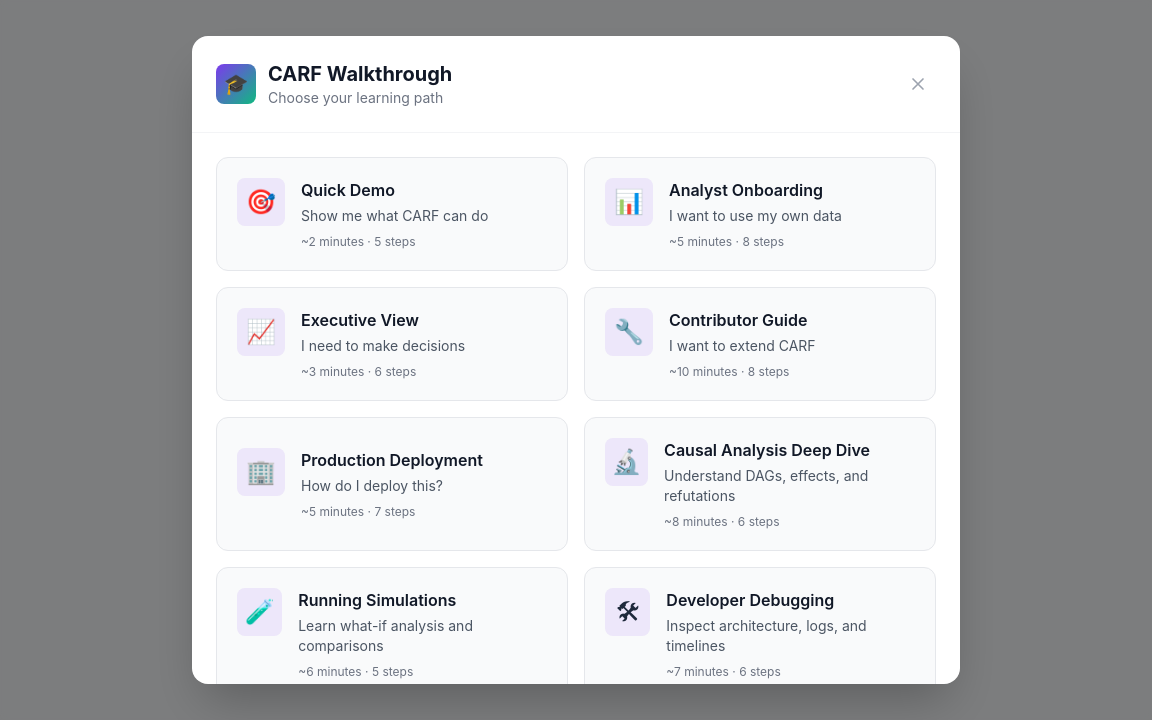
Test: WalkthroughManager › starts Developer Debugging track and shows first step
Click the text "Developer Debugging" at [750, 600], box [666,590,834,610]
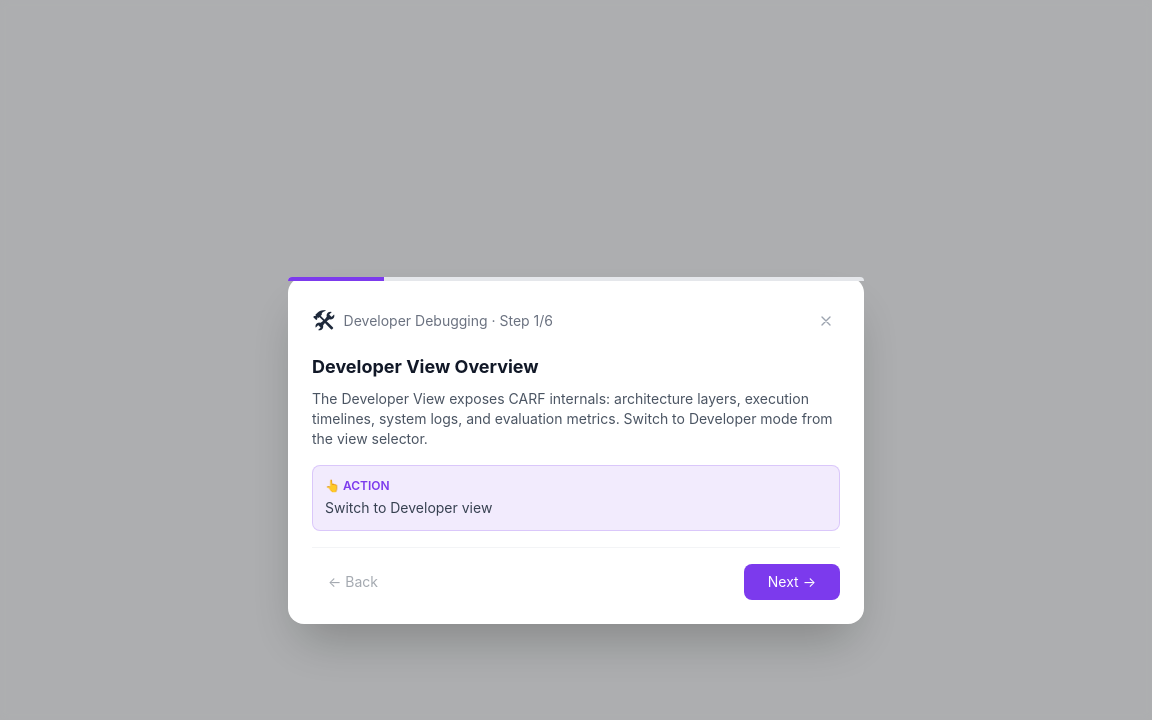
Expected: the heading "Developer View Overview" is shown, [312,356,539,377]
Expected: the text "Developer Debugging · Step 1/6" is shown, [344,311,553,331]
